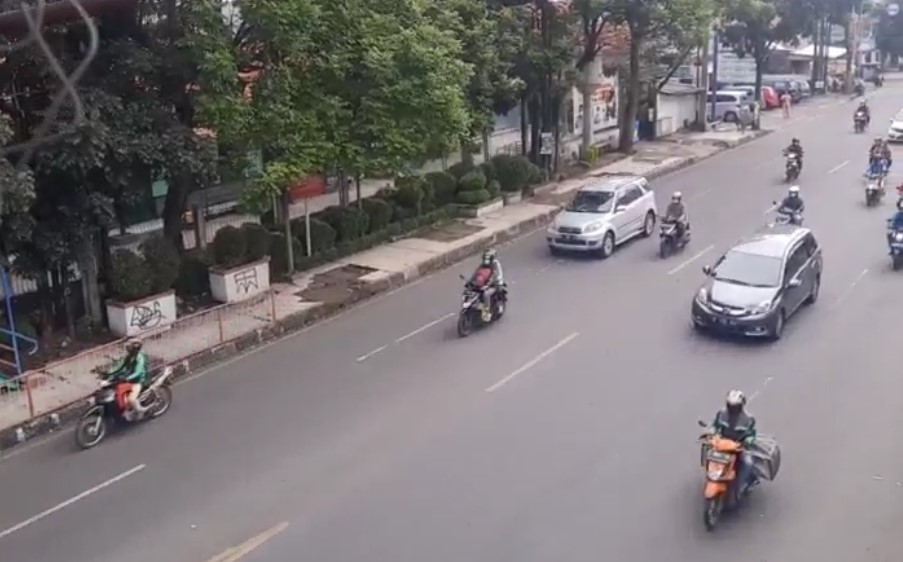motor: (677, 389, 780, 536), (54, 342, 191, 447), (454, 253, 514, 348), (655, 191, 696, 257), (758, 184, 810, 234), (777, 140, 807, 180)
